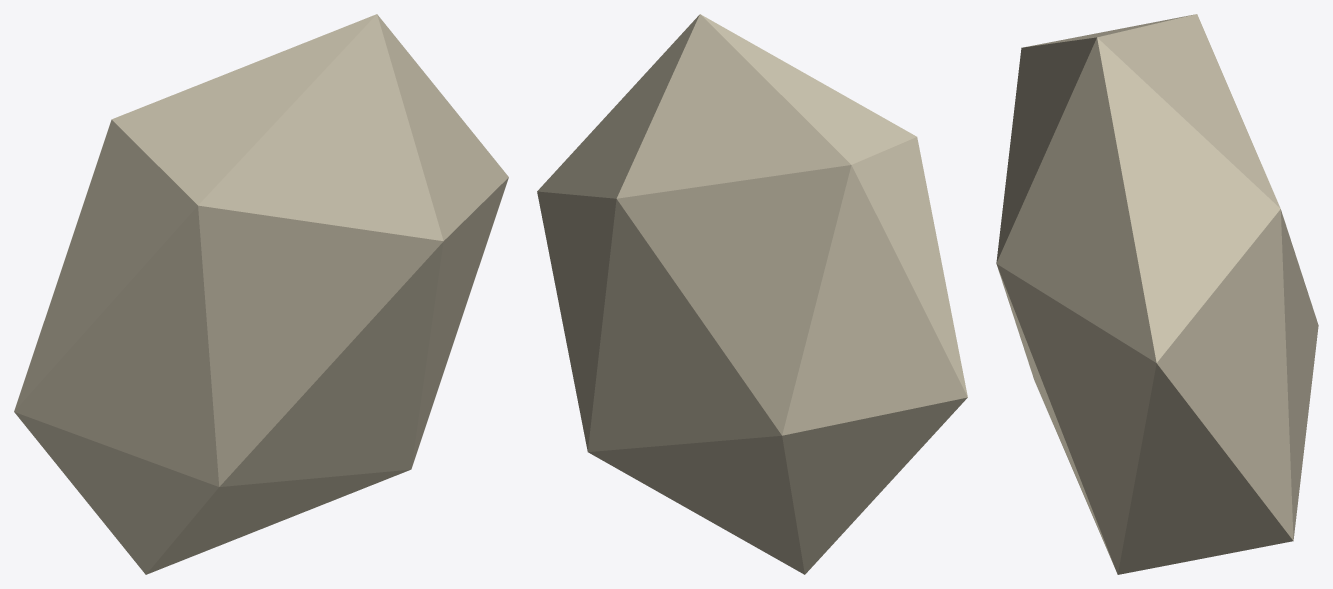
The model's file is gore_01.glb.
3 views of the same model, side by side, from view 1: azimuth 30°, elevation 25°; view 2: azimuth 150°, elevation 25°; view 3: azimuth 270°, elevation 25° (orthographic). The views are drawn at different scales.
Visible parts, largest first — view 1: CHUNK; view 2: CHUNK; view 3: CHUNK.
Part boxes in pixels (left/top/right/bottom): CHUNK: left=14, top=14, right=508, bottom=574; CHUNK: left=537, top=14, right=967, bottom=574; CHUNK: left=996, top=14, right=1318, bottom=574.
Size of the model in its own units: 0.091 by 0.0983 by 0.0473.
